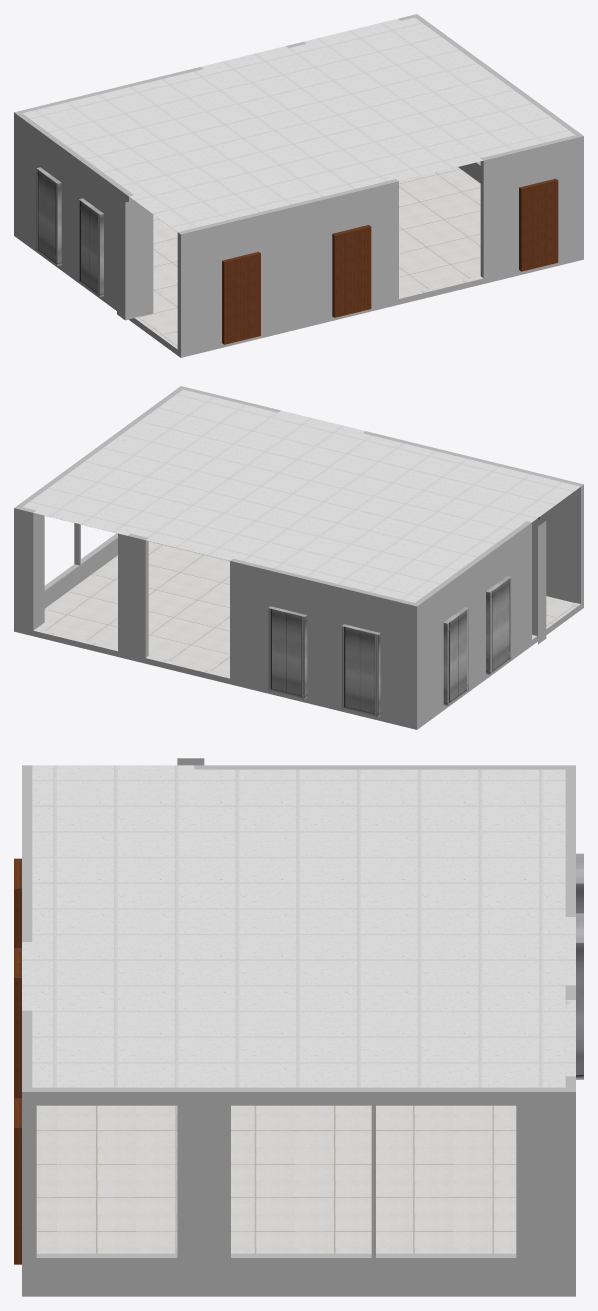
Rendered from crossroad_v4_texture.fbx.
The picture shows the model from 3 angles, top to bottom: view 1: azimuth 30°, elevation 25°; view 2: azimuth 150°, elevation 25°; view 3: azimuth 270°, elevation 25°; orthographic projection. The views are drawn at different scales.
Parts seen in each view (by area): view 1: Plane.370, Plane.369, door_elevator.119, door.049, column_6/8.028, door_elevator.120; view 2: Plane.370, Plane.369, door.050, door.049, column_6/8.028, column_1/4.017; view 3: Plane.370, Plane.369, door_elevator.119, door.050, door_elevator.120.
Part boxes in pixels (box(x1,y1,x2,y2)): Plane.370: box(23, 17, 575, 231); Plane.369: box(14, 14, 583, 357); door_elevator.119: box(222, 225, 371, 344); door.049: box(36, 167, 103, 296); column_6/8.028: box(117, 197, 153, 320); door_elevator.120: box(519, 178, 558, 271); Plane.370: box(22, 389, 580, 602); Plane.369: box(14, 386, 583, 729); door.050: box(268, 606, 380, 716); door.049: box(443, 576, 511, 705); column_6/8.028: box(532, 518, 546, 644); column_1/4.017: box(36, 513, 44, 628); Plane.370: box(22, 765, 575, 1087); Plane.369: box(22, 765, 575, 1296); door_elevator.119: box(14, 858, 21, 1098); door.050: box(576, 853, 583, 1079); door_elevator.120: box(14, 1098, 21, 1264).
Bounding box in the file's own units: 389 × 111 × 281.
